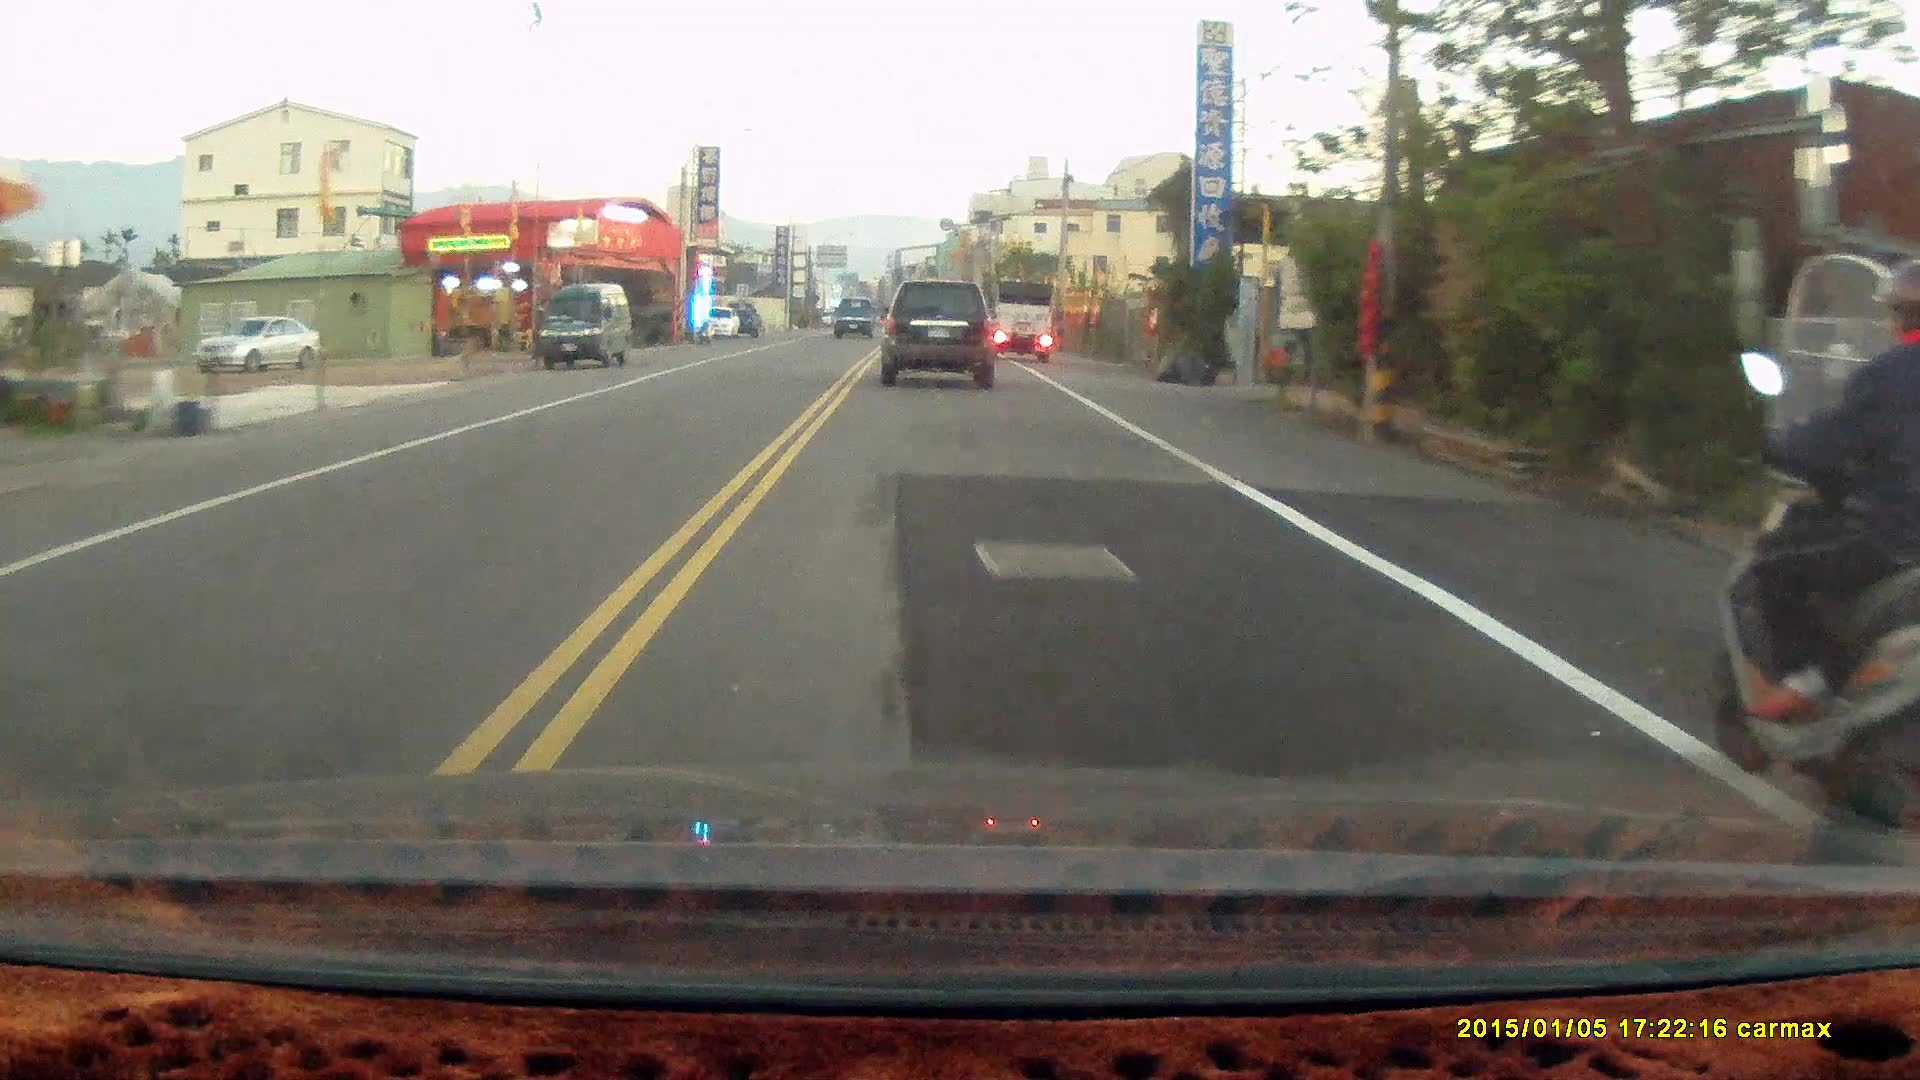rider: (1713, 248, 1919, 845)
vehicle: (875, 272, 1003, 385), (540, 282, 633, 372), (189, 314, 324, 372), (985, 277, 1058, 364)
